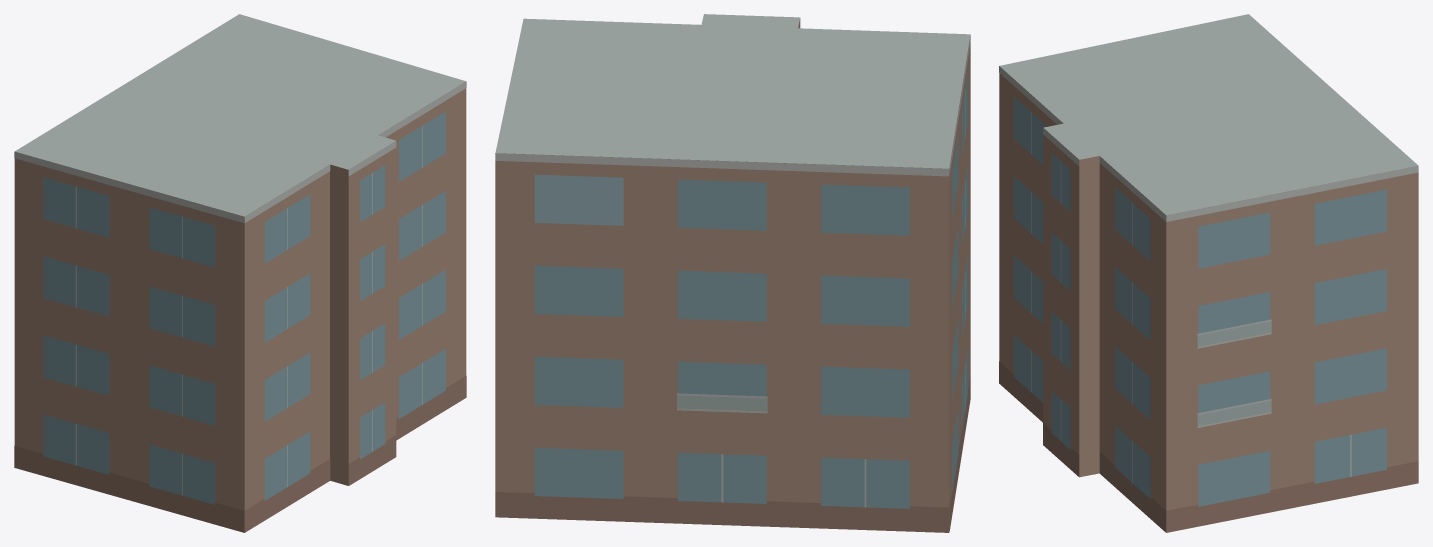
The model's file is survey-upis-32608685.glb.
3 views of the same model, side by side, from view 1: azimuth 30°, elevation 25°; view 2: azimuth 150°, elevation 25°; view 3: azimuth 270°, elevation 25° (orthographic). The views are drawn at different scales.
Parts seen in each view (by area): view 1: survey-upis-32608685.tmp; view 2: survey-upis-32608685.tmp; view 3: survey-upis-32608685.tmp.
Boxes of the visible parts, bbox=[...] form: survey-upis-32608685.tmp: bbox=[14, 14, 466, 532]; survey-upis-32608685.tmp: bbox=[495, 14, 970, 532]; survey-upis-32608685.tmp: bbox=[999, 14, 1418, 532].
Size of the model in its own units: 15.65 by 11.5 by 13.78.
